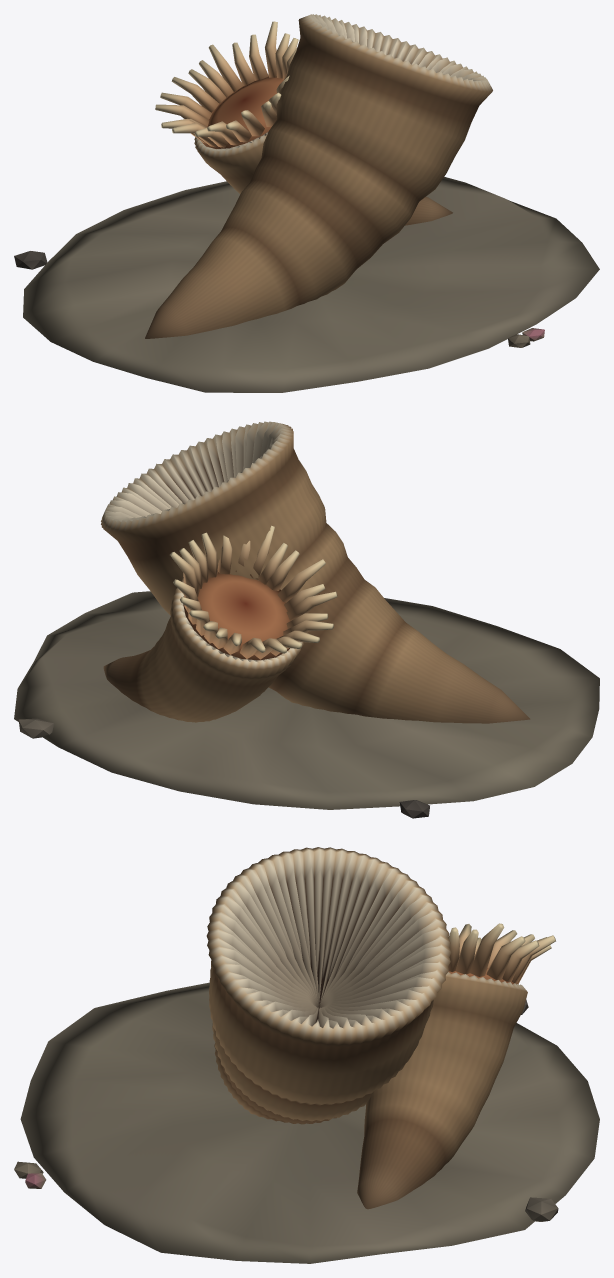
The model's file is Heliophyllum.fbx.
The picture shows the model from 3 angles, top to bottom: view 1: azimuth 30°, elevation 25°; view 2: azimuth 150°, elevation 25°; view 3: azimuth 270°, elevation 25°; orthographic projection. The views are drawn at different scales.
Visible parts, largest first — view 1: Heliophyllum; view 2: Heliophyllum; view 3: Heliophyllum.
Boxes of the visible parts, <box> form: Heliophyllum: <box>14,14,599,392</box>; Heliophyllum: <box>14,421,599,818</box>; Heliophyllum: <box>14,847,599,1263</box>.
Bounding box in the file's own units: 1.96 × 0.9797 × 1.65.
